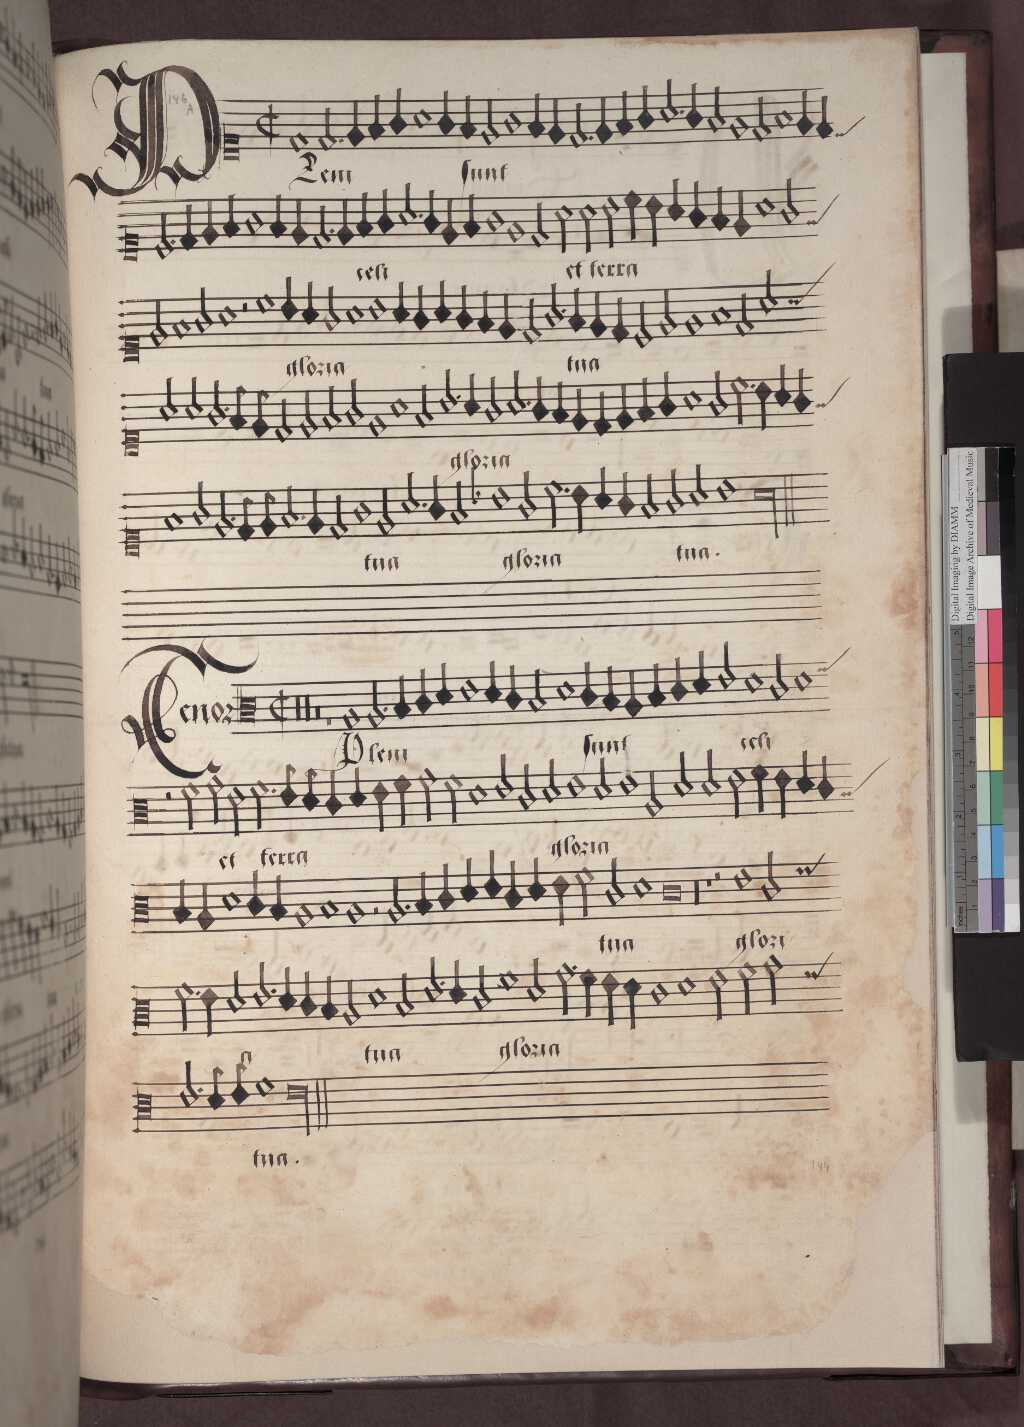c clef_11: (111, 324, 146, 374)
custos_6: (784, 264, 825, 319)
minim rest: (238, 284, 252, 355)
minim_10: (522, 285, 544, 351), (733, 284, 756, 343)
minim_11: (632, 294, 654, 352)
minim_6: (758, 261, 780, 324)
minim_7: (192, 276, 214, 341), (542, 274, 563, 335), (322, 275, 342, 339)
minim_9: (656, 280, 679, 341), (146, 292, 168, 353)
point: (555, 298, 571, 321)
semibreve_4: (253, 283, 277, 322)
semibreve_5: (367, 289, 389, 328)
semibreve_6: (217, 294, 240, 335), (344, 292, 366, 333)
semibreve_8: (708, 294, 734, 333), (168, 308, 193, 348)
semibreve_9: (682, 304, 708, 343)
semiminim_10: (611, 288, 633, 349)
semiminim_5: (279, 270, 303, 332)
semiminim_6: (391, 276, 411, 332), (433, 273, 453, 329), (300, 275, 320, 330)
semiminim_7: (454, 276, 473, 339), (411, 278, 430, 338)
semiminim_8: (475, 283, 495, 340), (569, 283, 588, 340)
semiminim_9: (588, 284, 610, 346), (496, 284, 512, 348)
